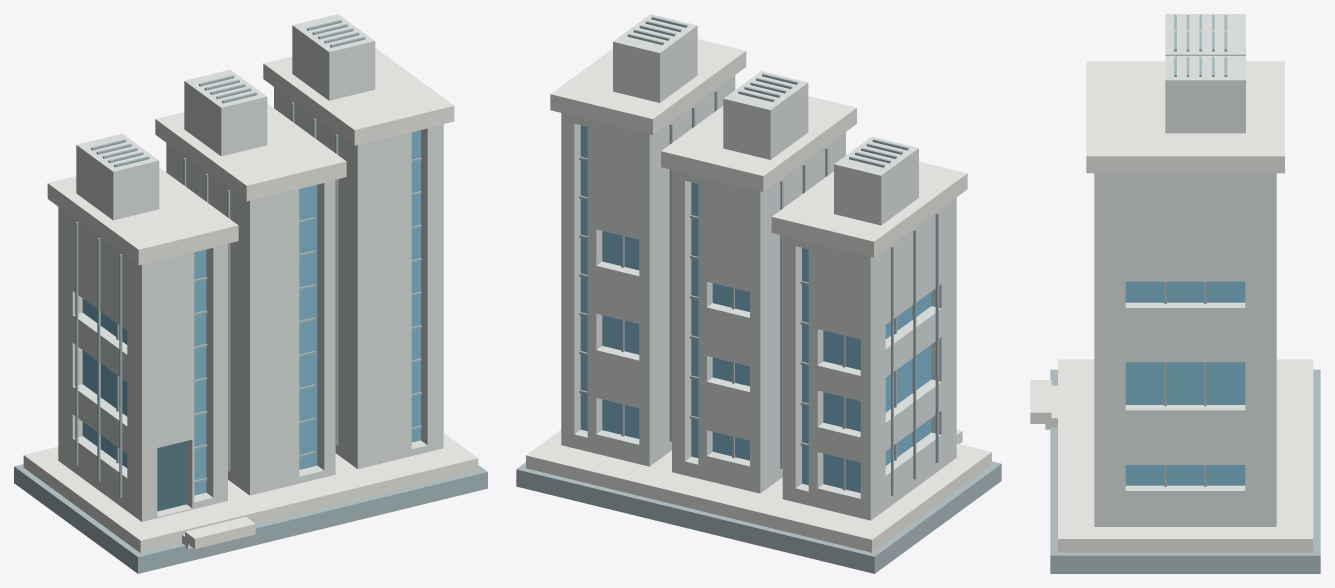
The model's file is 02_three_module_complex.glb.
The picture shows the model from 3 angles, left to right: view 1: azimuth 30°, elevation 25°; view 2: azimuth 150°, elevation 25°; view 3: azimuth 270°, elevation 25°; orthographic projection. The views are drawn at different scales.
Visible parts, largest first — view 1: module_body_0, module_body_2, module_body_1, roof_overhang (×3), rooftop_plant (×3), plinth, inset_glass (×4), foundation, window_reveal_geometry (×3), side_vertical_seam (×5), inset_backing, entry_steps; view 2: module_body_0, module_body_2, module_body_1, roof_overhang (×3), rooftop_plant (×3), inset_glass (×13), plinth, foundation, window_reveal_geometry (×3), side_vertical_seam (×5); view 3: module_body_2, plinth, roof_overhang (×3), inset_glass (×3), rooftop_plant (×3), foundation, window_reveal_geometry (×3), entry_steps.
Part boxes in pixels (x1,y1,x2,y2): module_body_0: (58,207,227,521); module_body_2: (274,87,443,468); module_body_1: (166,143,335,495); roof_overhang (×3): (47,48,454,265); rooftop_plant (×3): (76,14,375,220); plinth: (23,433,478,552); inset_glass (×4): (82,130,420,495); foundation: (14,464,487,573); window_reveal_geometry (×3): (206,128,427,497); side_vertical_seam (×5): (75,134,338,497); inset_backing: (157,441,186,511); entry_steps: (185,517,255,548); module_body_0: (782,197,956,520); module_body_2: (561,75,735,466); module_body_1: (672,132,845,493); roof_overhang (×3): (550,39,967,257); rooftop_plant (×3): (613,14,918,225); inset_glass (×13): (580,125,931,492); plinth: (526,430,991,552); foundation: (516,461,1001,573); window_reveal_geometry (×3): (574,123,801,487); side_vertical_seam (×5): (669,123,938,495); module_body_2: (1094,173,1276,526); plinth: (1058,359,1313,552); roof_overhang (×3): (1086,61,1284,173); inset_glass (×3): (1125,281,1245,485); rooftop_plant (×3): (1165,14,1245,133); foundation: (1050,369,1320,573); window_reveal_geometry (×3): (1125,302,1245,490); entry_steps: (1030,380,1051,423).
Size of the model in its own units: 3.5 by 4.07 by 2.31.
